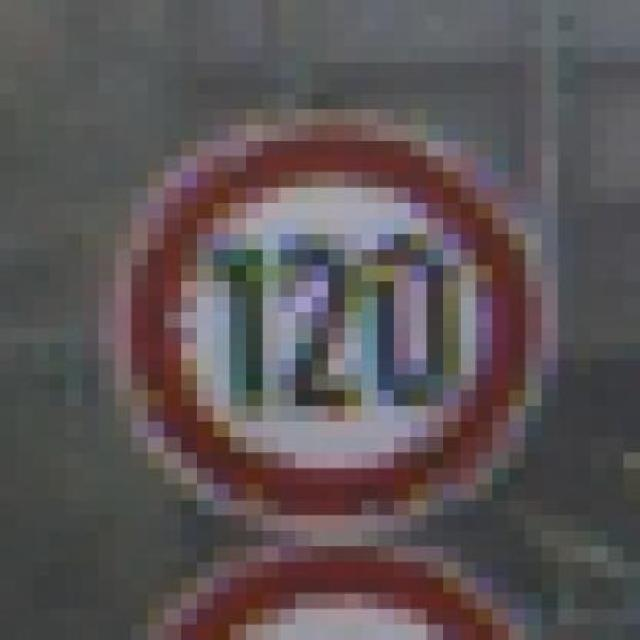forb_speed_over_120: (132, 125, 539, 540)
